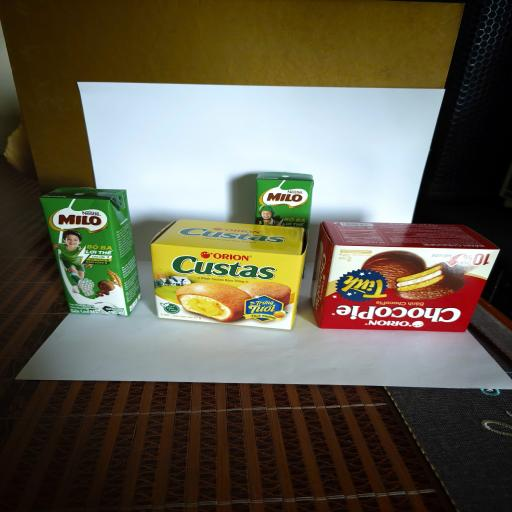chocopie: (310, 221, 500, 332)
custas: (150, 218, 309, 330)
milo: (38, 187, 142, 316), (256, 172, 314, 231)
